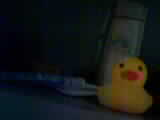duck: (97, 49, 154, 107)
